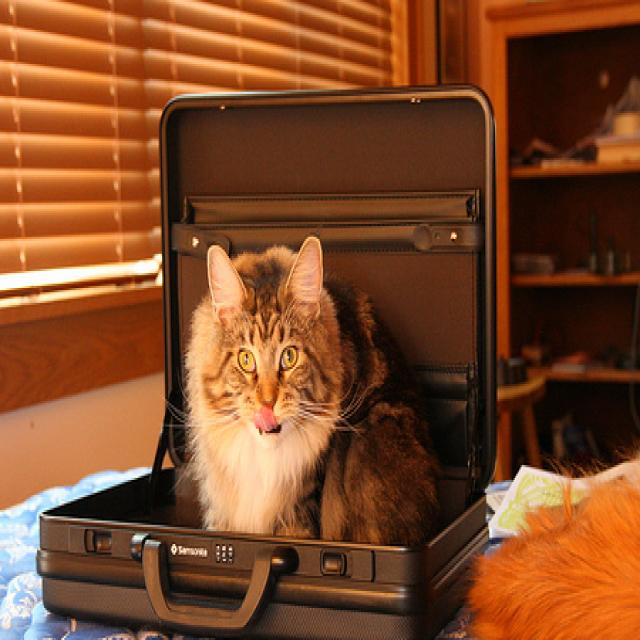Maine Coon: (180, 232, 443, 553)
